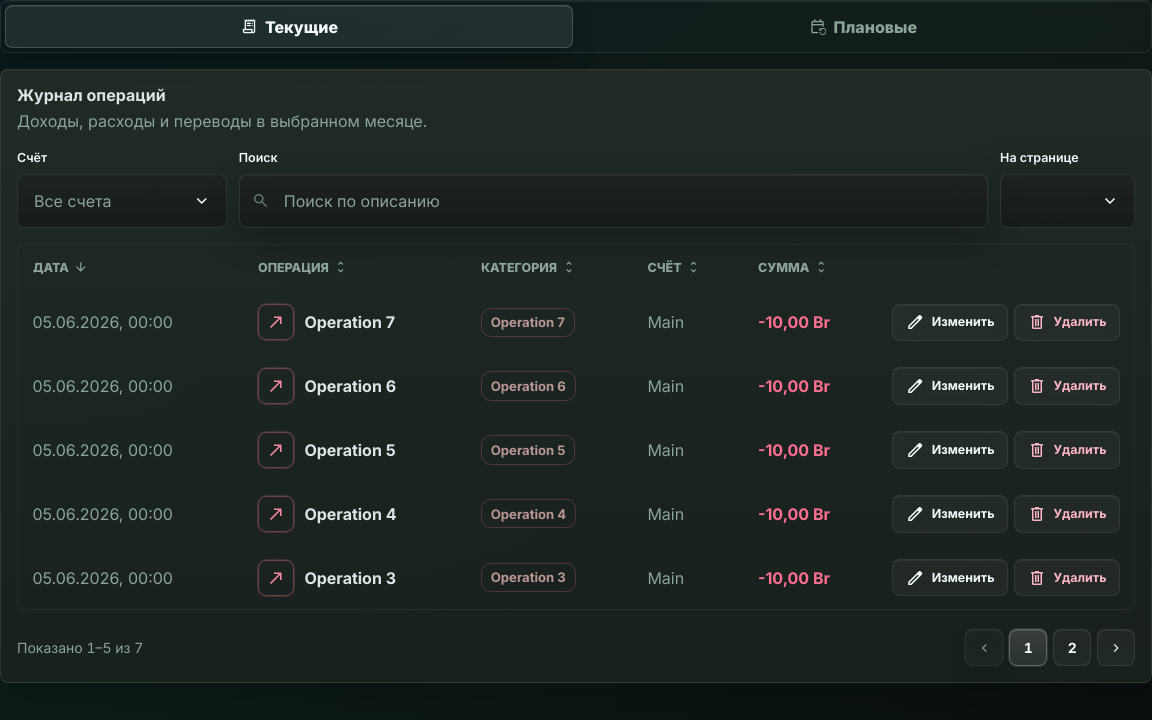
Test: OverviewTabComponent › paginates transactions in compact pages
Click the button with test id "next-transactions-page": {"x": 1116, "y": 648} [1097,629,1135,666]
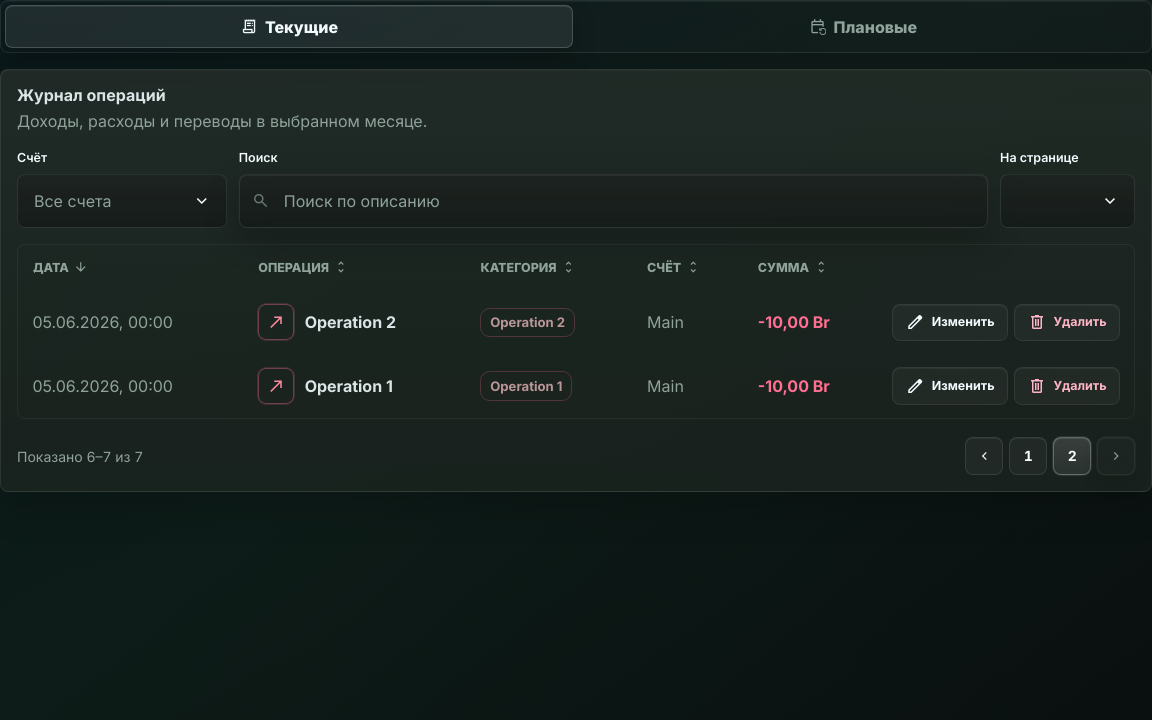
Check: the row that starts with "Operation 2" is shown, box [305,312,396,332]
